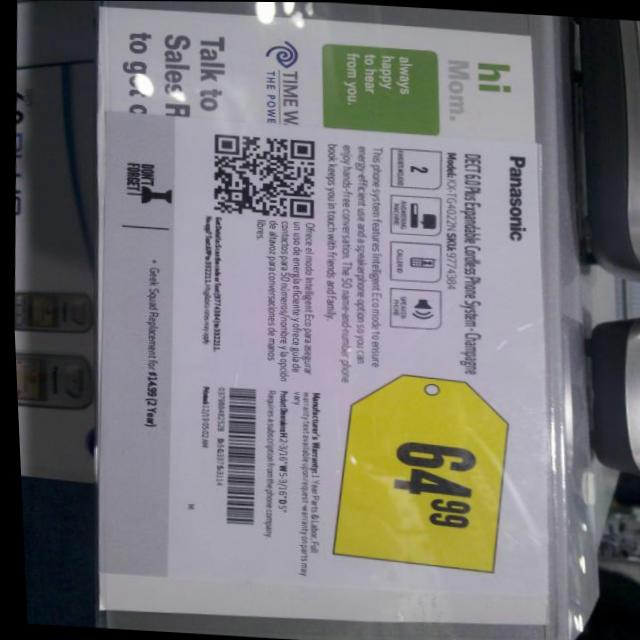qrcode: (209, 135, 316, 219)
